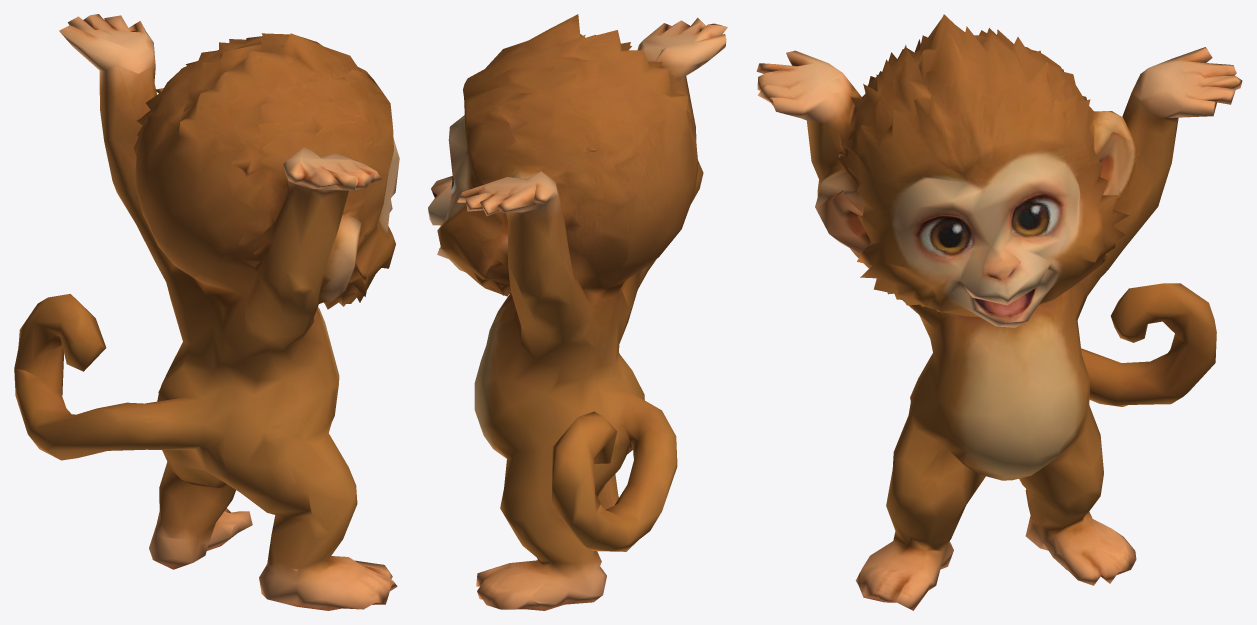
Rendered from x_monkey.glb.
3 renders of one model, left to right at view 1: azimuth 30°, elevation 25°; view 2: azimuth 150°, elevation 25°; view 3: azimuth 270°, elevation 25°, orthographic. The views are drawn at different scales.
Parts seen in each view (by area): view 1: tripo_node_f4cf581f-6c9b-4435-9cb3-6b6941749840; view 2: tripo_node_f4cf581f-6c9b-4435-9cb3-6b6941749840; view 3: tripo_node_f4cf581f-6c9b-4435-9cb3-6b6941749840.
Boxes of the visible parts, bbox=[...] form: tripo_node_f4cf581f-6c9b-4435-9cb3-6b6941749840: bbox=[14, 14, 399, 610]; tripo_node_f4cf581f-6c9b-4435-9cb3-6b6941749840: bbox=[428, 14, 727, 610]; tripo_node_f4cf581f-6c9b-4435-9cb3-6b6941749840: bbox=[756, 14, 1242, 610].
Bounding box in the file's own units: 0.5405 × 1 × 0.8032.
Materials: 1 (1 with a texture image).
